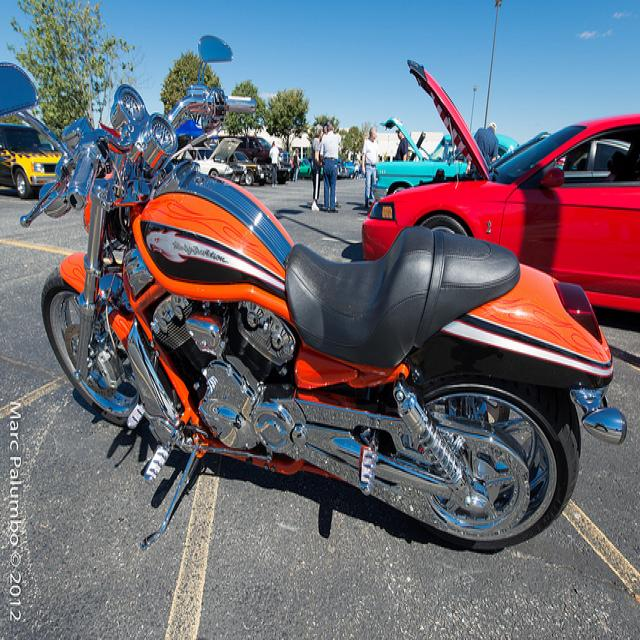motor: (41, 16, 629, 561)
